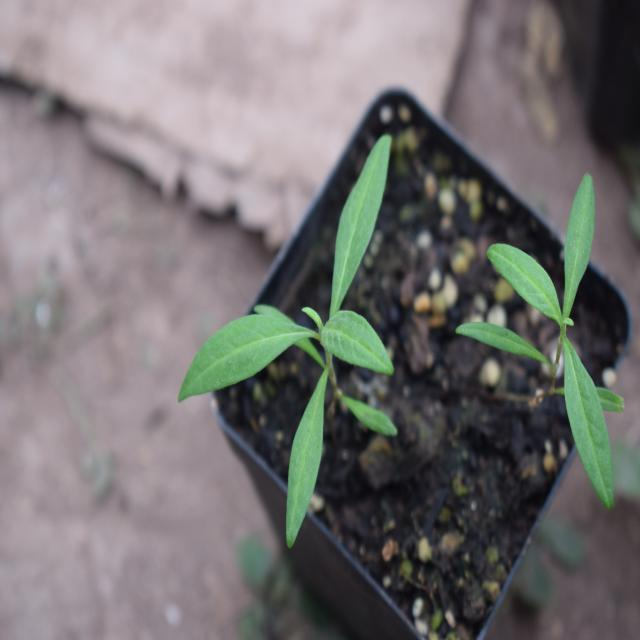white_smart_weed: (168, 136, 436, 523), (472, 154, 640, 503)
